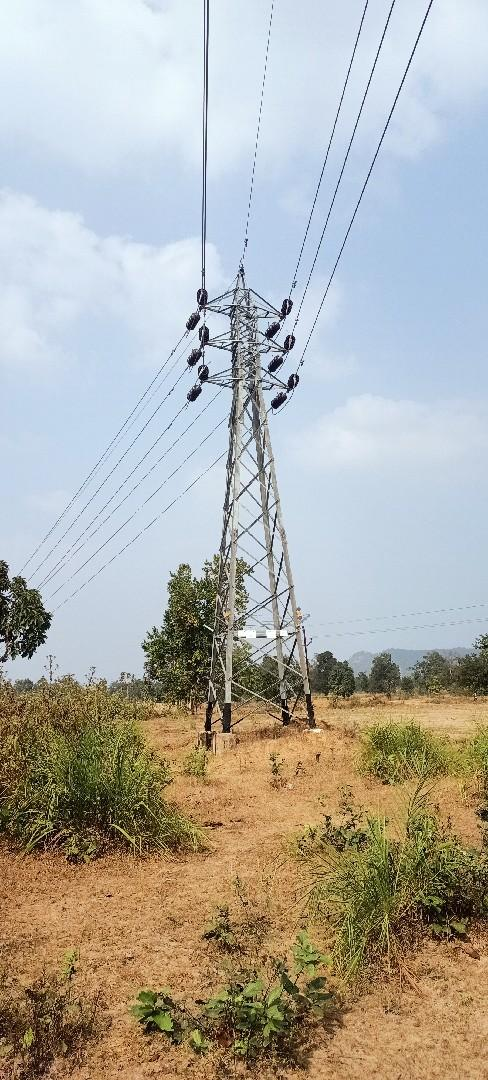GSM Antenna: (193, 263, 319, 710)
